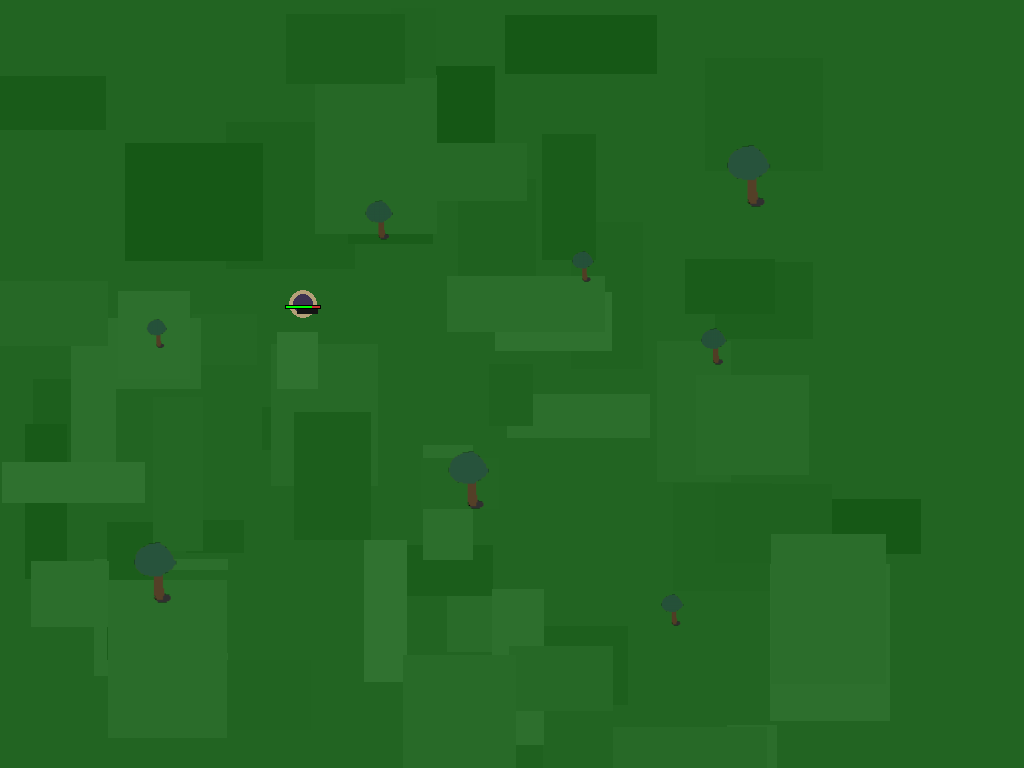RocketTrooper: (281, 282, 324, 325)
